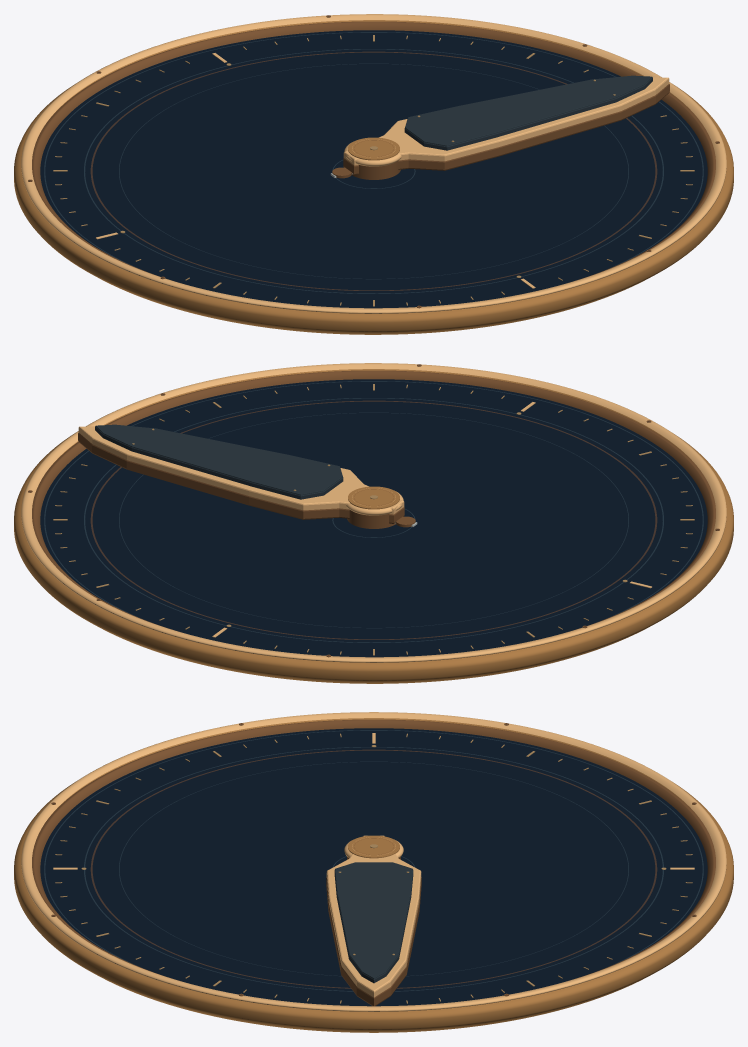
The model's file is terratock-clock.glb.
The picture shows the model from 3 angles, top to bottom: view 1: azimuth 30°, elevation 25°; view 2: azimuth 150°, elevation 25°; view 3: azimuth 270°, elevation 25°; orthographic projection.
Parts seen in each view (by area): view 1: Midnight enamel, Champagne brass, Machined gold bevel (×2), Satin bronze (×2), Charcoal stone platform, Subtle enamel concentric rule, Mocha inset, Stone edge, Engraved minute index; view 2: Midnight enamel, Champagne brass, Machined gold bevel (×2), Satin bronze (×2), Charcoal stone platform, Subtle enamel concentric rule, Mocha inset, Stone edge, Engraved minute index; view 3: Midnight enamel, Champagne brass, Machined gold bevel (×2), Satin bronze (×2), Charcoal stone platform, Subtle enamel concentric rule, Mocha inset, Engraved minute index, Stone edge.
Boxes of the visible parts, x1,y1,x2,y2 form: Midnight enamel: [40, 30, 707, 308]; Champagne brass: [14, 20, 733, 334]; Machined gold bevel (×2): [21, 14, 726, 313]; Satin bronze (×2): [28, 15, 719, 308]; Charcoal stone platform: [405, 75, 652, 146]; Subtle enamel concentric rule: [44, 32, 703, 293]; Mocha inset: [29, 15, 718, 306]; Stone edge: [404, 77, 652, 150]; Engraved minute index: [53, 35, 694, 306]; Midnight enamel: [40, 379, 707, 657]; Champagne brass: [14, 369, 733, 683]; Machined gold bevel (×2): [21, 363, 726, 662]; Satin bronze (×2): [28, 364, 719, 657]; Charcoal stone platform: [95, 424, 342, 495]; Subtle enamel concentric rule: [44, 381, 703, 642]; Mocha inset: [29, 364, 718, 655]; Stone edge: [95, 426, 343, 499]; Engraved minute index: [53, 384, 694, 655]; Midnight enamel: [40, 728, 707, 1006]; Champagne brass: [14, 718, 733, 1032]; Machined gold bevel (×2): [21, 712, 726, 1011]; Satin bronze (×2): [32, 719, 715, 1006]; Charcoal stone platform: [335, 862, 412, 978]; Subtle enamel concentric rule: [44, 730, 703, 991]; Mocha inset: [53, 723, 694, 994]; Engraved minute index: [55, 733, 692, 1003]; Stone edge: [334, 870, 413, 983].
Size of the model in its own units: 6.84 by 0.4825 by 6.84.
